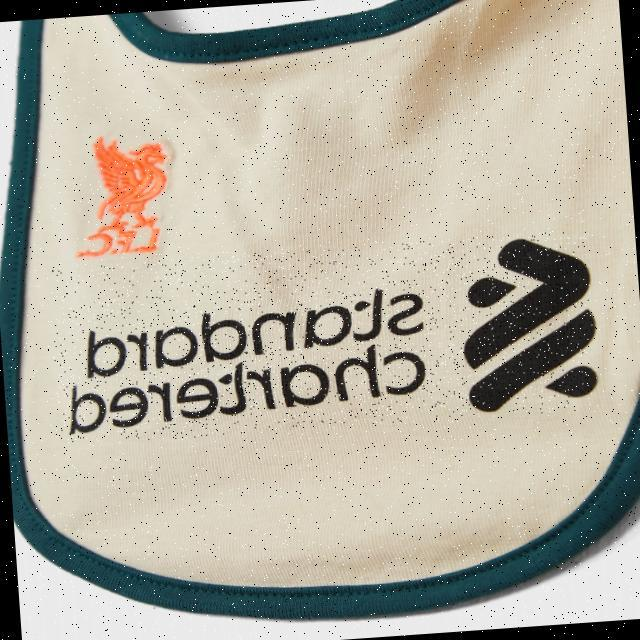Standard Chartered: (48, 230, 599, 447)
